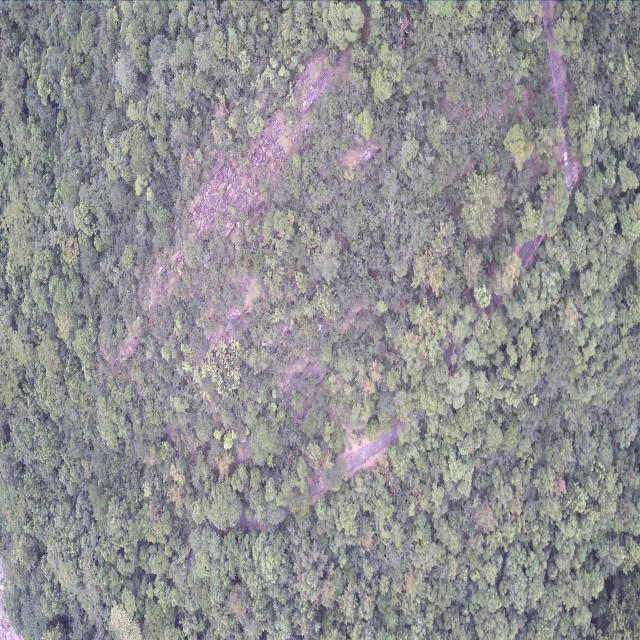UAV: (317, 323, 323, 332)
